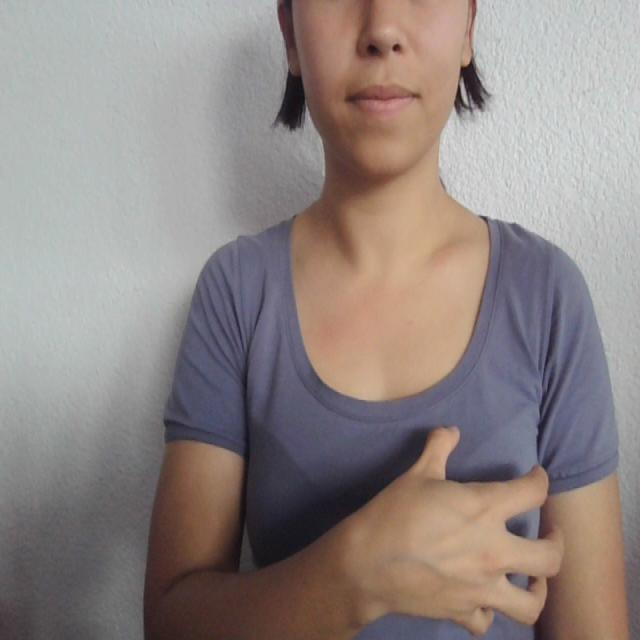Anne: (223, 413, 579, 640)
